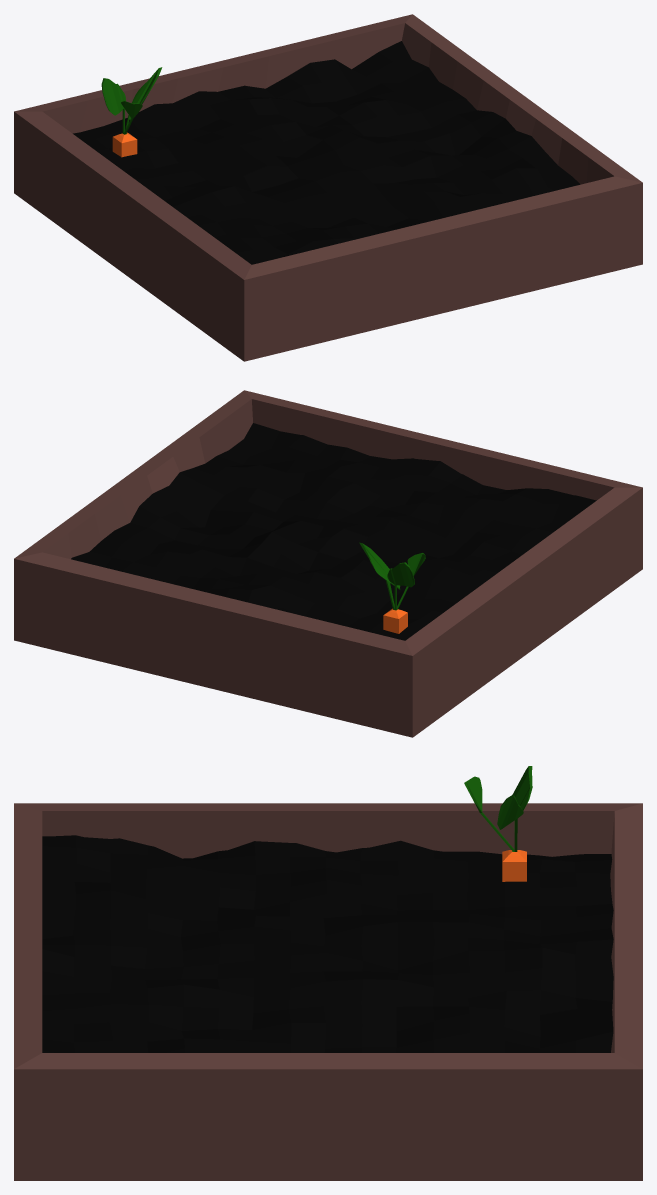
File: CarrotBox.fbx
3 views of the same model, one above another, from view 1: azimuth 30°, elevation 25°; view 2: azimuth 150°, elevation 25°; view 3: azimuth 270°, elevation 25° (orthographic). The views are drawn at different scales.
Parts seen in each view (by area): view 1: Box, Carrot; view 2: Box, Carrot; view 3: Box, Carrot.
Part boxes in pixels (x1,y1,x2,y2): Box: (14, 14, 642, 361); Carrot: (101, 67, 162, 157); Box: (14, 390, 642, 737); Carrot: (359, 542, 425, 633); Box: (14, 803, 642, 1180); Carrot: (464, 766, 532, 881).
Bounding box in the file's own units: 200 × 65.21 × 200.
